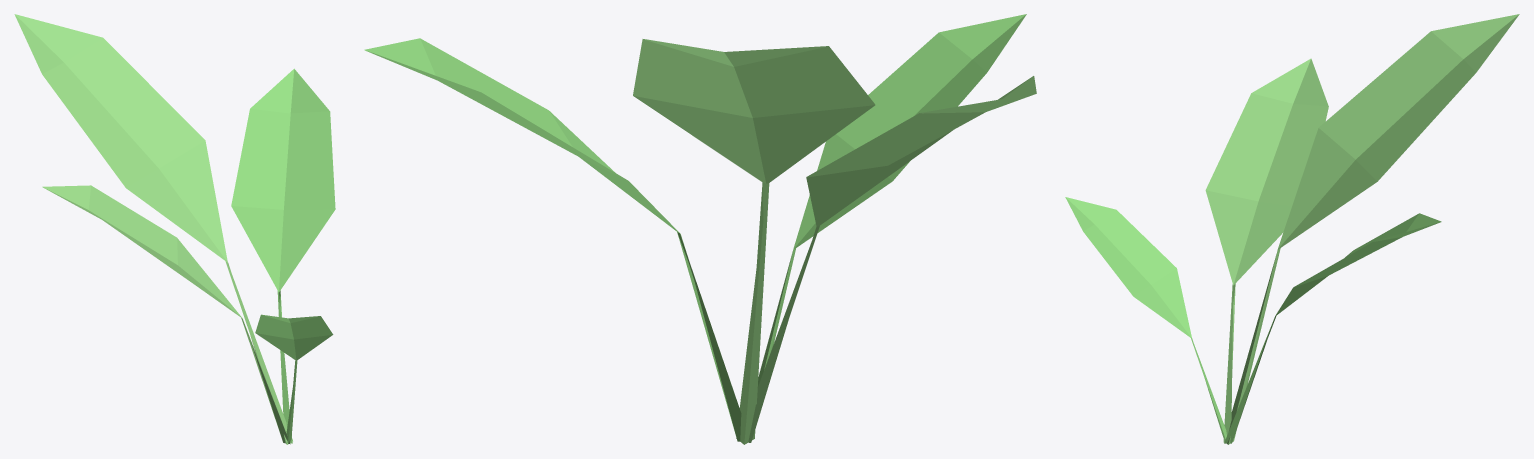
File: Plant_j_TwoS_09.fbx
3 views of the same model, side by side, from view 1: azimuth 30°, elevation 25°; view 2: azimuth 150°, elevation 25°; view 3: azimuth 270°, elevation 25° (orthographic). The views are drawn at different scales.
Parts seen in each view (by area): view 1: Plant_j_TwoS_09; view 2: Plant_j_TwoS_09; view 3: Plant_j_TwoS_09.
Boxes of the visible parts, box(x1,y1,x2,y2) form: Plant_j_TwoS_09: box(14, 14, 335, 444); Plant_j_TwoS_09: box(364, 14, 1036, 444); Plant_j_TwoS_09: box(1065, 14, 1519, 444).
Size of the model in its own units: 27.99 by 29.89 by 33.89.
